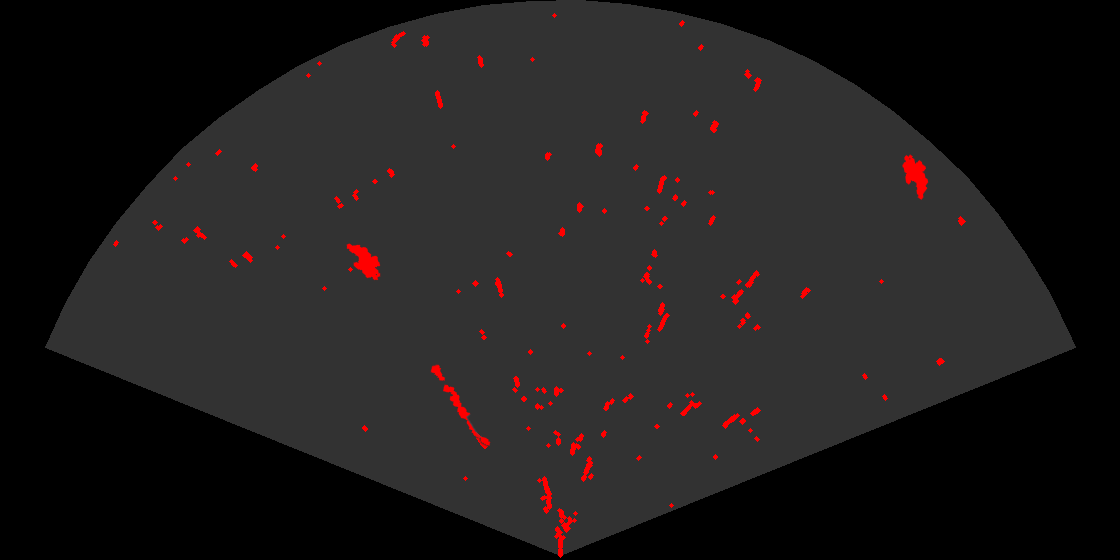AUV: (345, 242, 382, 282), (901, 153, 930, 201)
chain: (429, 363, 492, 447)
